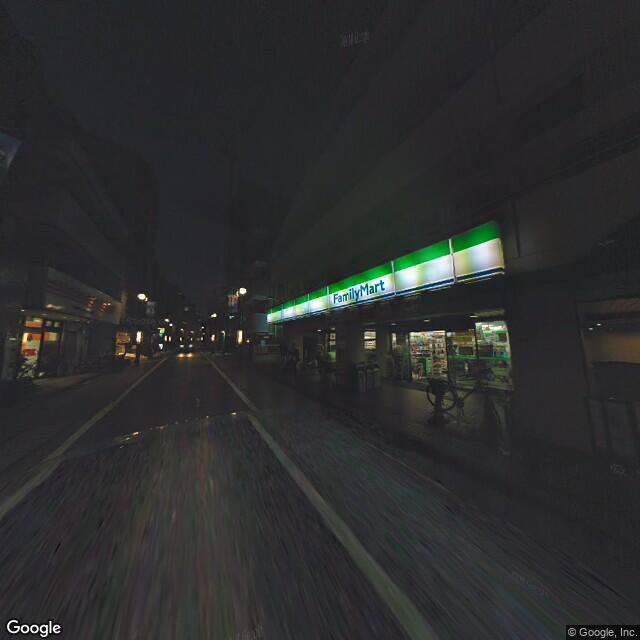family_mart: (263, 218, 504, 324), (331, 269, 389, 307)
